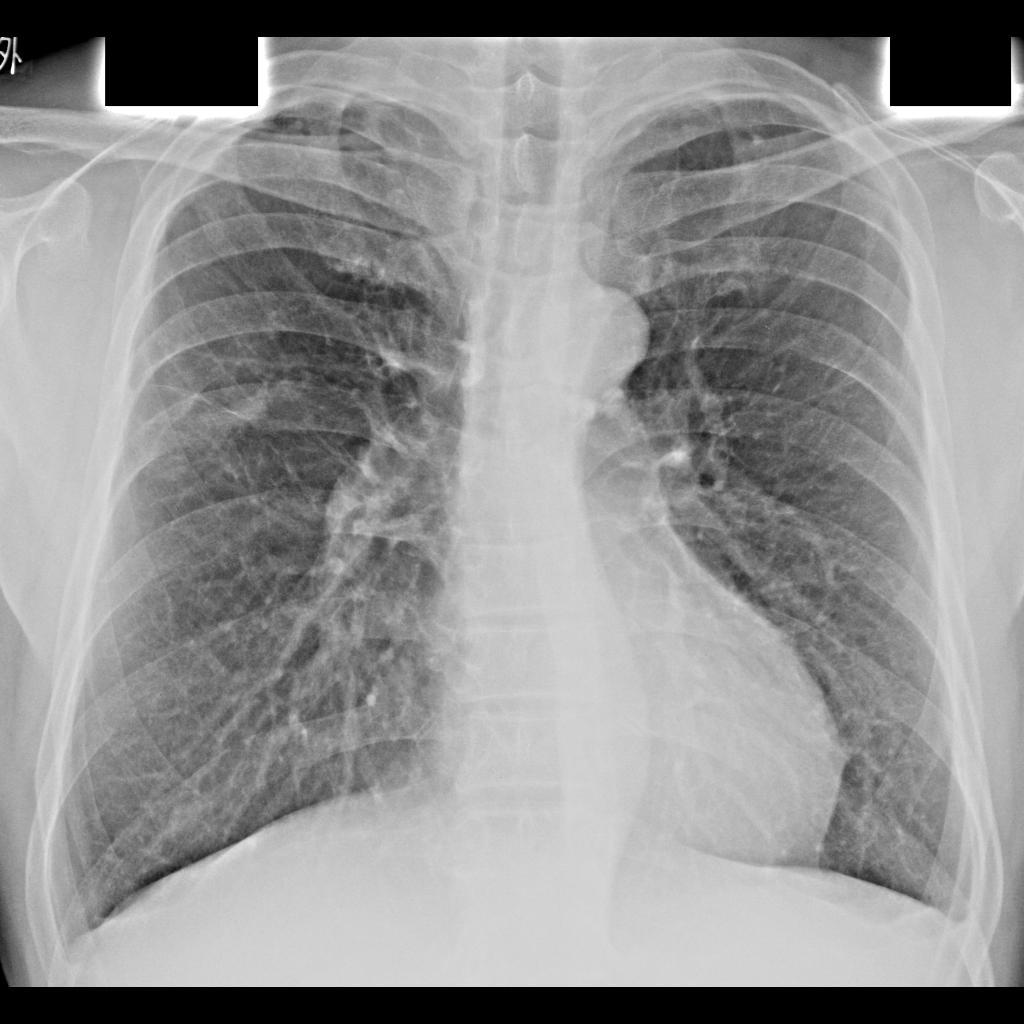Nodule: (226, 388, 270, 431)
